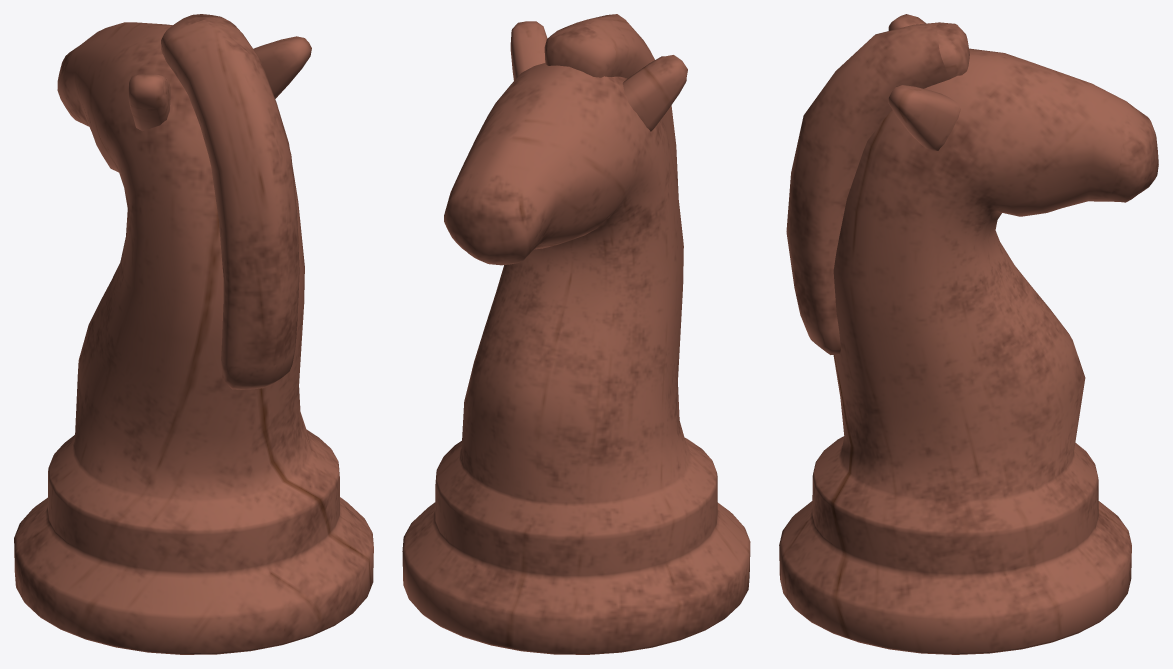
File: GEO_BlackKnight_01.obj
3 views of the same model, side by side, from view 1: azimuth 30°, elevation 25°; view 2: azimuth 150°, elevation 25°; view 3: azimuth 270°, elevation 25° (orthographic). The views are drawn at different scales.
Visible parts, largest first — view 1: GEO_BlackKnight_01; view 2: GEO_BlackKnight_01; view 3: GEO_BlackKnight_01.
Boxes of the visible parts, left/top/right/bottom form: GEO_BlackKnight_01: left=14, top=14, right=373, bottom=654; GEO_BlackKnight_01: left=402, top=14, right=750, bottom=654; GEO_BlackKnight_01: left=779, top=14, right=1158, bottom=654.
Bounding box in the file's own units: 0.0377 × 0.0655 × 0.0406.
